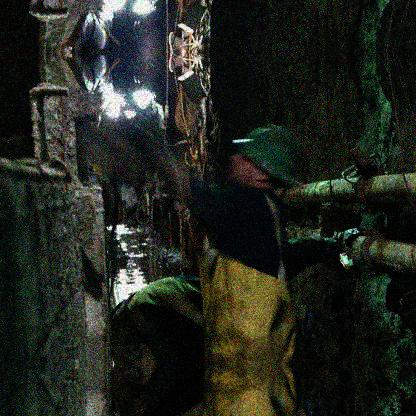helmet: (226, 122, 303, 194)
